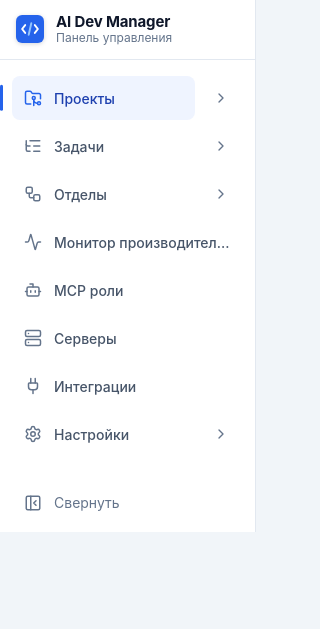
Test: Sidebar — сворачиваемые категории навигации › повторный клик сворачивает категорию (aria-expanded=false, подсписок скрыт)
The image size is (320, 629).
Click the button named "Раскрыть «Проекты»": (221, 98) [199,76,243,120]
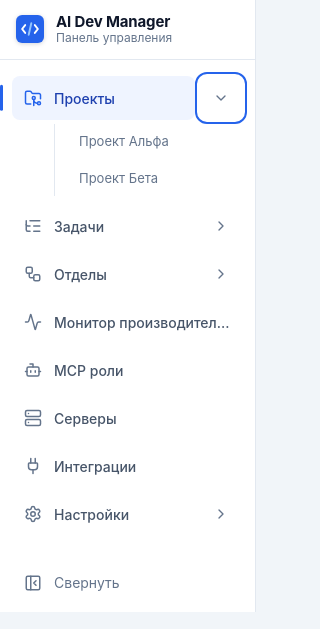
Result: the link "Проект Альфа" is shown at [79,133,169,149]
Click the button named "Свернуть «Проекты»": (221, 98) [199,76,243,120]
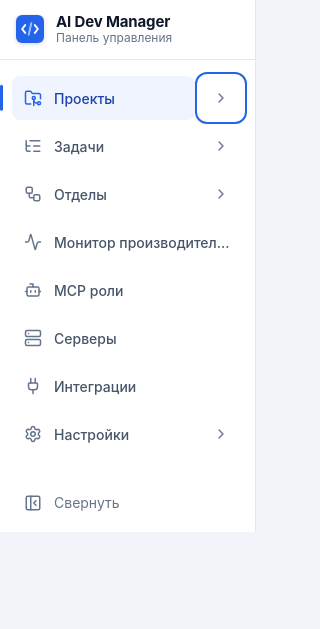
Result: the button named "Раскрыть «Проекты»" is collapsed at [199,76,243,120]
Result: the link "Проект Альфа" is gone
